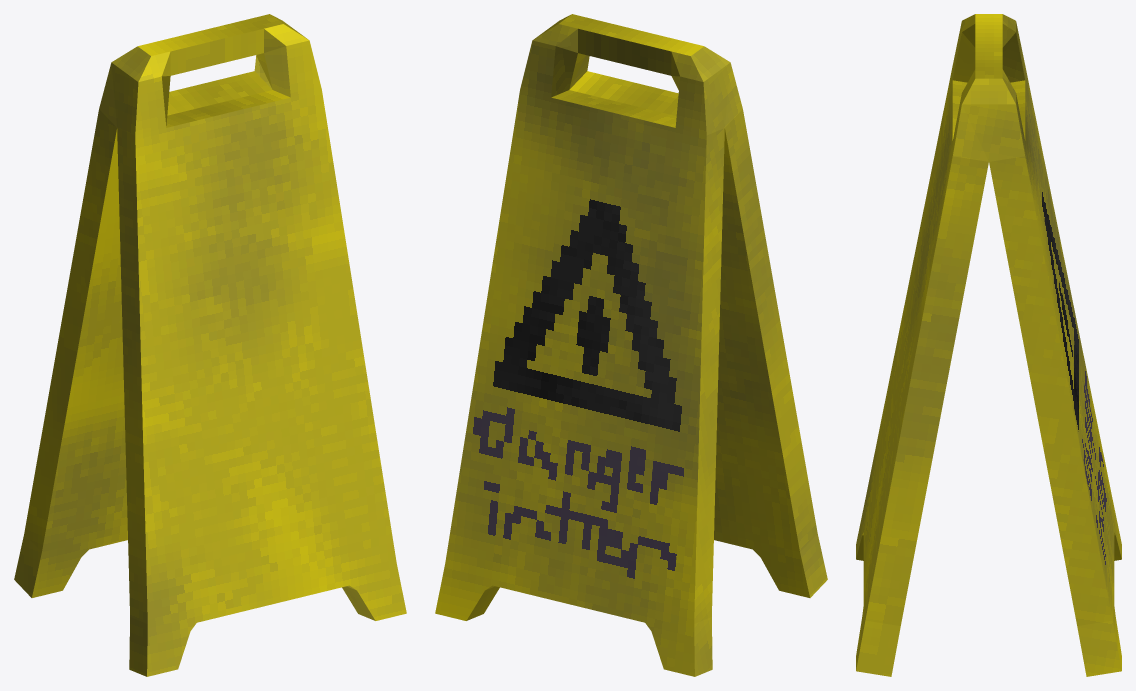
The model's file is dangerInternSign.gltf.
3 renders of one model, left to right at view 1: azimuth 30°, elevation 25°; view 2: azimuth 150°, elevation 25°; view 3: azimuth 270°, elevation 25°, orthographic.
Parts seen in each view (by area): view 1: plane; view 2: plane; view 3: plane.
Part boxes in pixels (x1,y1,x2,y2): plane: (14,14,406,676); plane: (435,14,827,676); plane: (856,14,1121,676).
Bounding box in the file's own units: 1.04 × 2.18 × 0.9249.
1 material, 1 textured.
